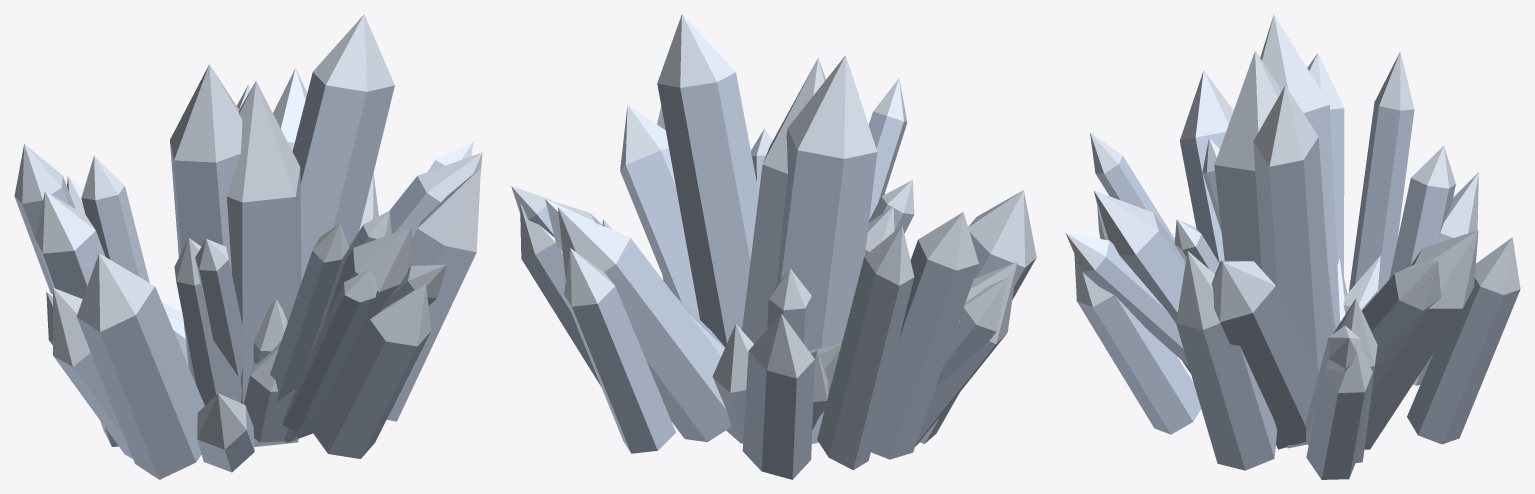
Rendered from druse_silicon.fbx.
The picture shows the model from 3 angles, left to right: view 1: azimuth 30°, elevation 25°; view 2: azimuth 150°, elevation 25°; view 3: azimuth 270°, elevation 25°; orthographic projection.
Parts seen in each view (by area): view 1: druse_silicon; view 2: druse_silicon; view 3: druse_silicon.
Boxes of the visible parts, x1=… form: druse_silicon: x1=14, y1=14, x2=482, y2=479; druse_silicon: x1=511, y1=14, x2=1036, y2=479; druse_silicon: x1=1065, y1=14, x2=1520, y2=479.
Size of the model in its own units: 0.4222 by 0.339 by 0.3588.
